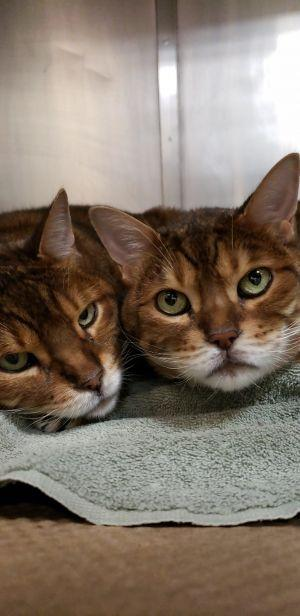bengal: (88, 145, 300, 396)
